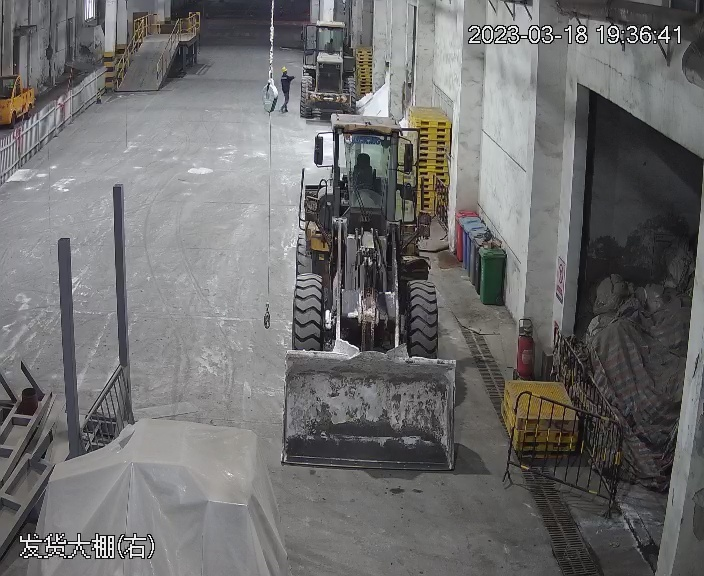head: (279, 65, 291, 80)
helmet: (281, 65, 288, 71)
people: (275, 64, 292, 113)
